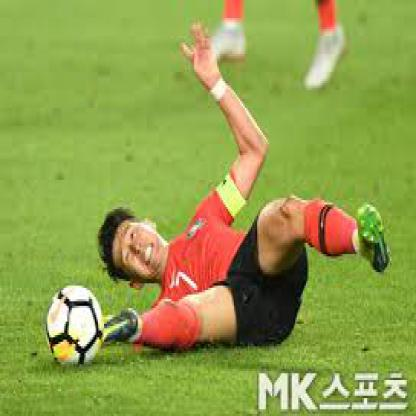Fall_Down: (81, 22, 389, 351)
